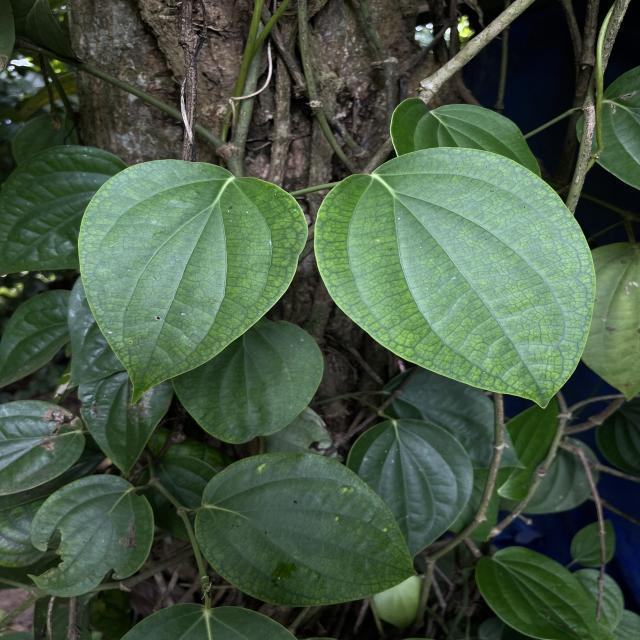Piper nigrum: (312, 146, 598, 412), (75, 158, 311, 407)
